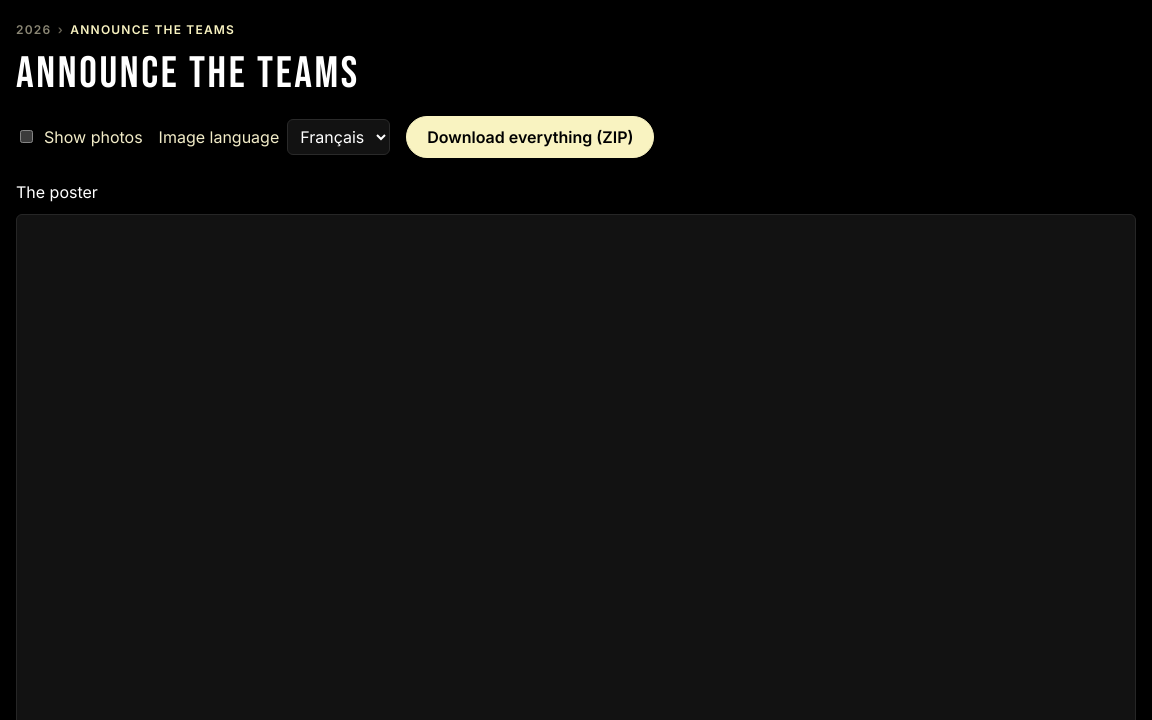
Test: announce page › shows the photos, with the reminder, when the switch is turned on, and remembers it
Click the checkbox labelled "Show photos".
click(26, 137)  # box left=20, top=130, right=33, bottom=144
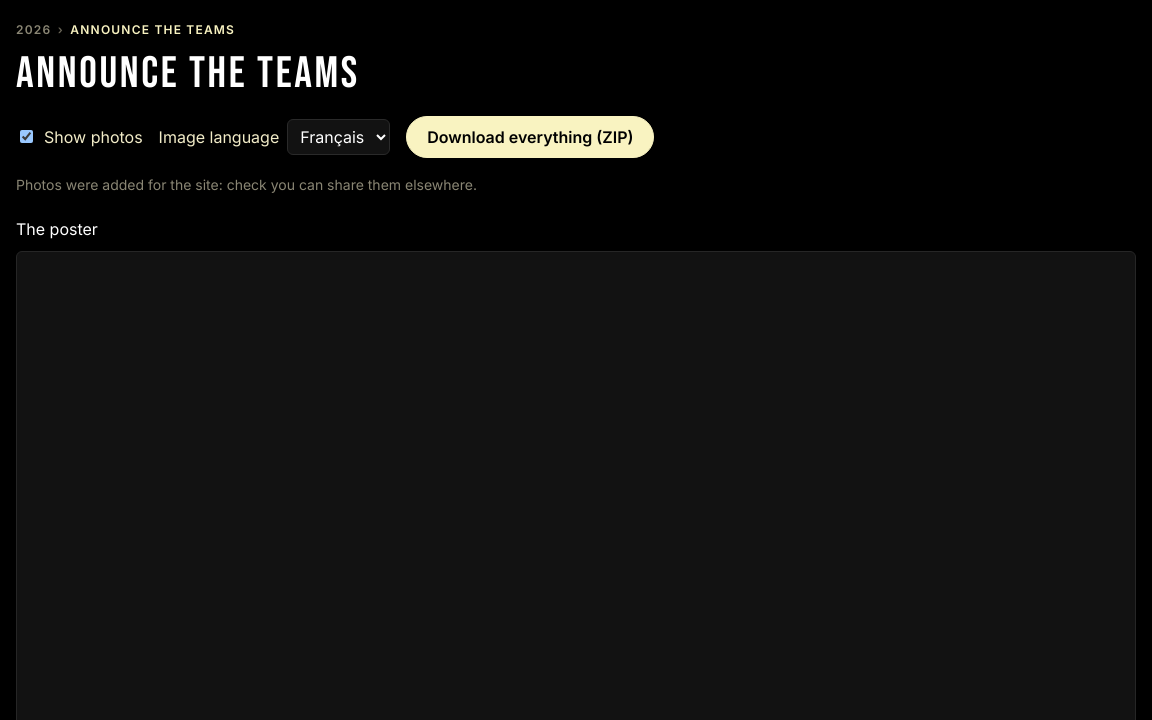
Result: the checkbox labelled "Show photos" is checked at left=20, top=130, right=33, bottom=144
Result: the text "Photos were added for the site" is shown at left=16, top=176, right=477, bottom=193
